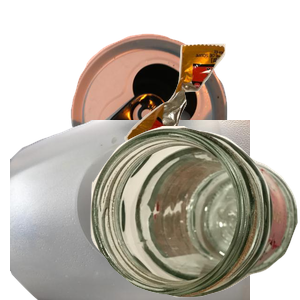glass: (90, 126, 300, 300)
metal: (68, 31, 288, 211)
plastic: (10, 120, 250, 300)
trash: (122, 41, 300, 190)
